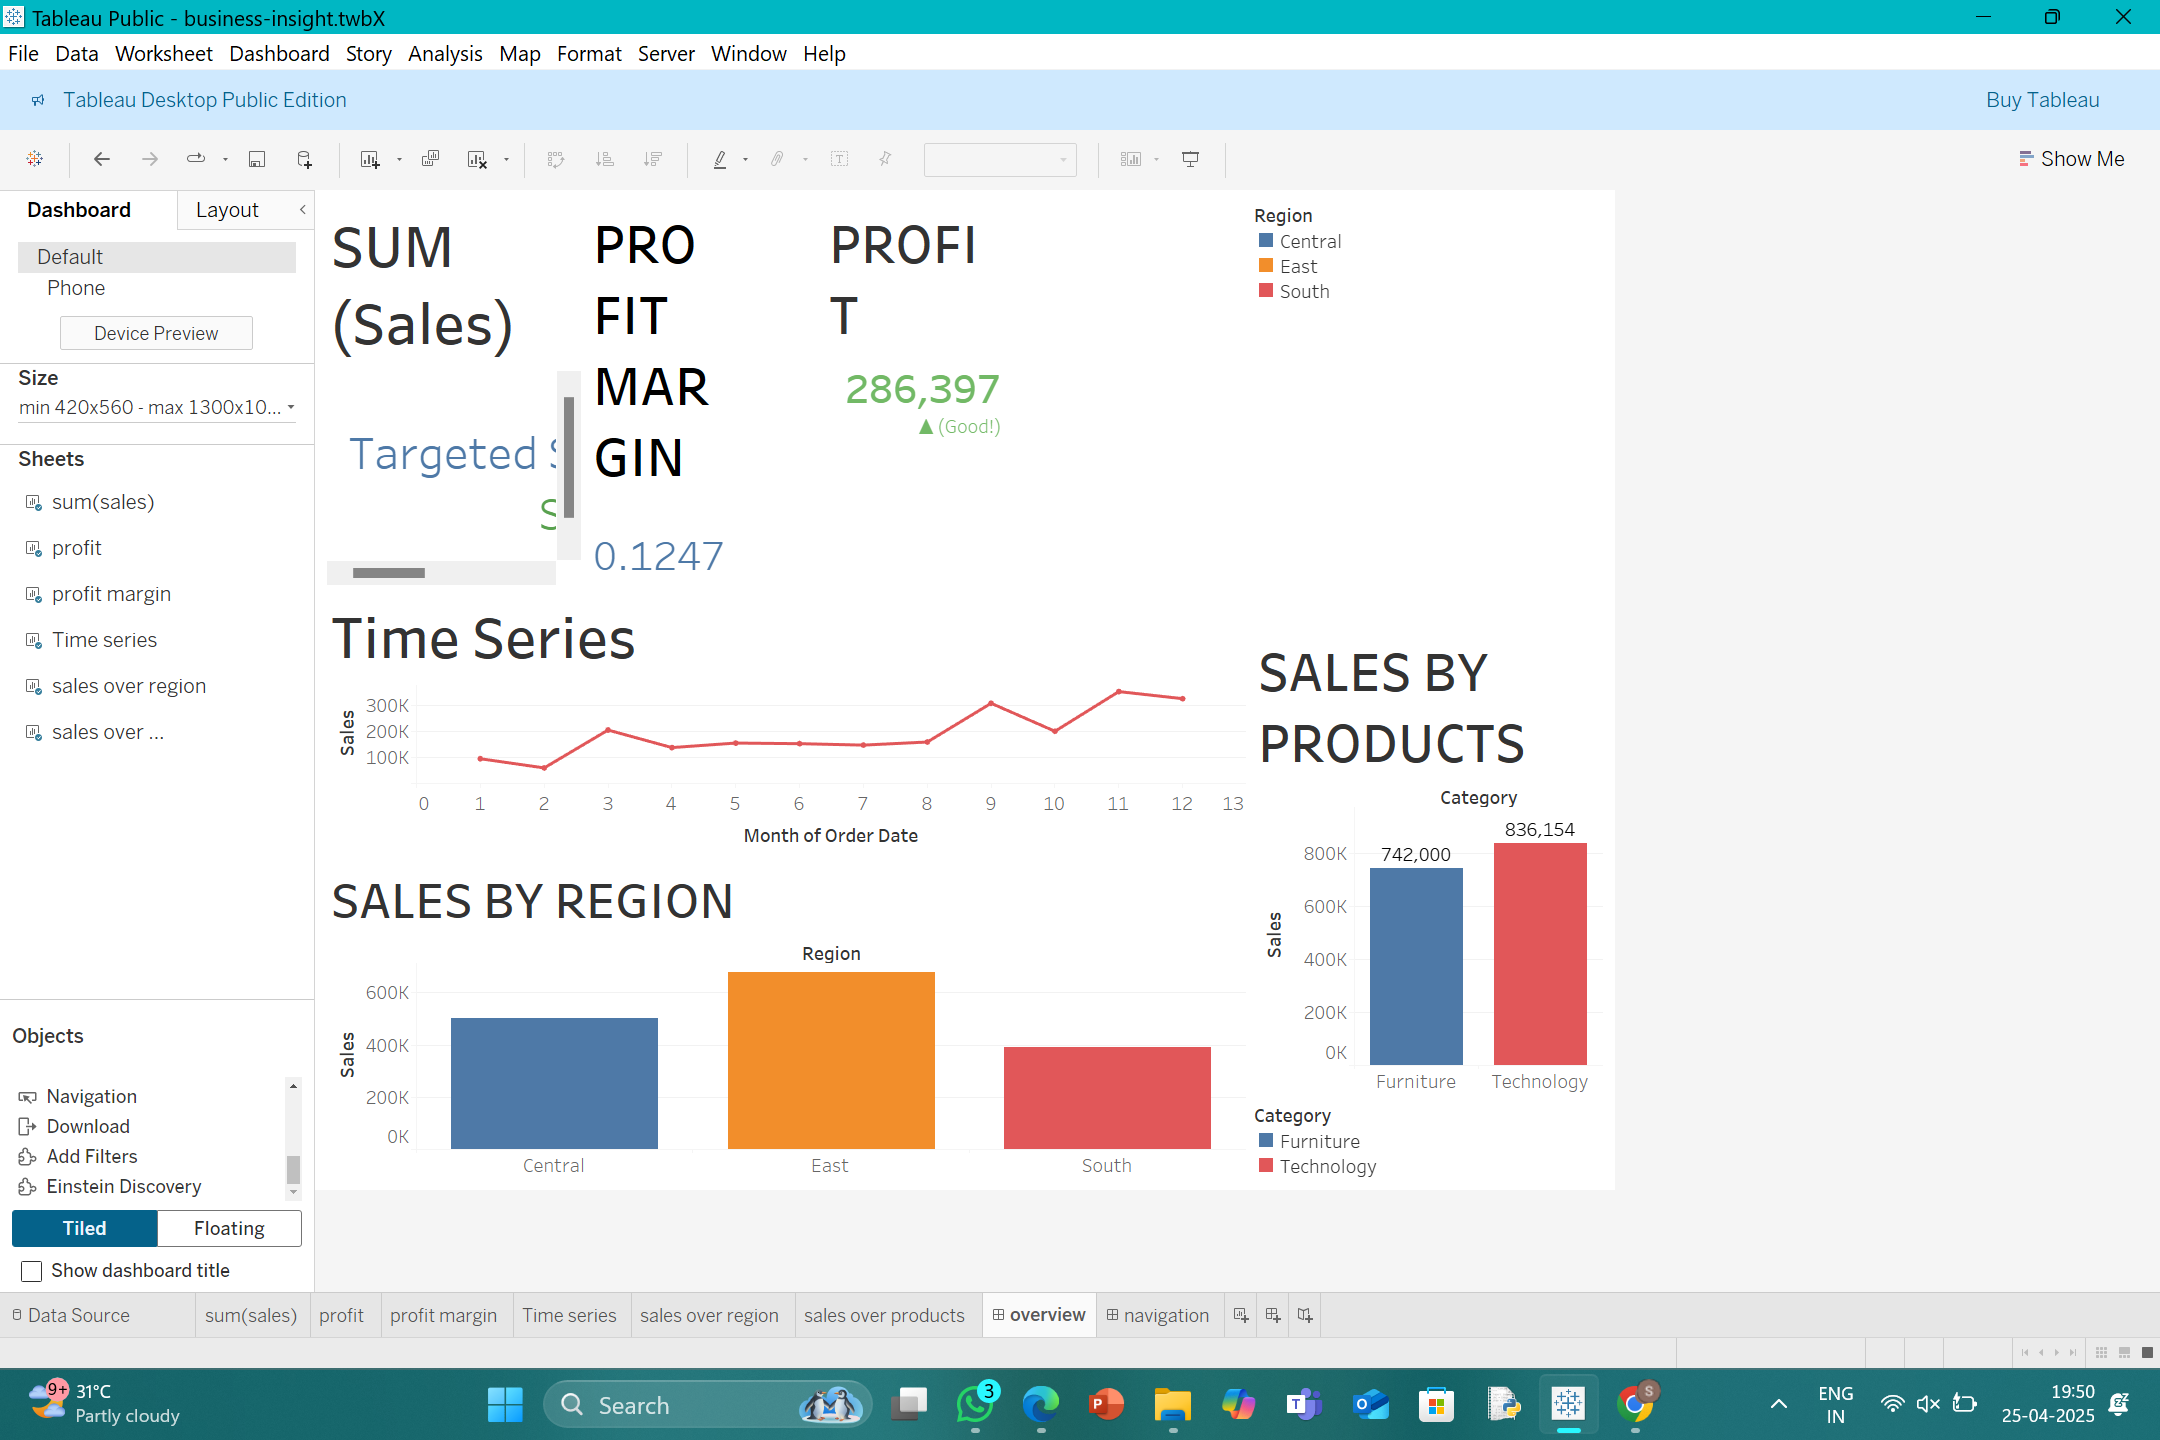

The page's visual inventory and layout, read from the dashboard file:
{"tool":"tableau","page":{"name":"overview","canvas":[1000,1000],"units":"permille","ordinal":1},"visuals":[{"type":"worksheet","title":"sum(sales)","mark":"Automatic","box":[6.2,8,201.5,391]},{"type":"worksheet","title":"profit margin","mark":"Automatic","box":[207.7,8,181.5,391]},{"type":"worksheet","title":"profit ","mark":"Automatic","box":[389.2,8,330,391]},{"type":"legend","title":"sales over region","param":"[federated.0mzrxyc1j43iwu11mb93x0yxyger].[none:Region:nk]","box":[719.2,8,274.6,428]},{"type":"worksheet","title":"Time series","mark":"Automatic","rows":["Sales"],"cols":["Order Date"],"box":[6.2,399,713.1,269]},{"type":"worksheet","title":"sales over products","mark":"Automatic","rows":["Sales"],"cols":["Category"],"box":[719.2,436,274.6,472]},{"type":"worksheet","title":"sales over region","mark":"Automatic","rows":["Sales"],"cols":["Region"],"box":[6.2,668,713.1,324]},{"type":"legend","title":"sales over products","param":"[federated.0mzrxyc1j43iwu11mb93x0yxyger].[none:Category:nk]","box":[719.2,908,274.6,84]}]}

Visuals, with their boxes on the dashboard's canvas, which has no fixed pixel size, in thousandths of its width and height (x1, y1, x2, y2). These are canvas units, not pixel positions in the 2160x1440 screenshot, which may show the page scaled, cropped or inside an application window:
"sum(sales)" worksheet: 6,8,208,399
"profit margin" worksheet: 208,8,389,399
"profit " worksheet: 389,8,719,399
"sales over region" legend: 719,8,994,436
"Time series" worksheet: 6,399,719,668
"sales over products" worksheet: 719,436,994,908
"sales over region" worksheet: 6,668,719,992
"sales over products" legend: 719,908,994,992
